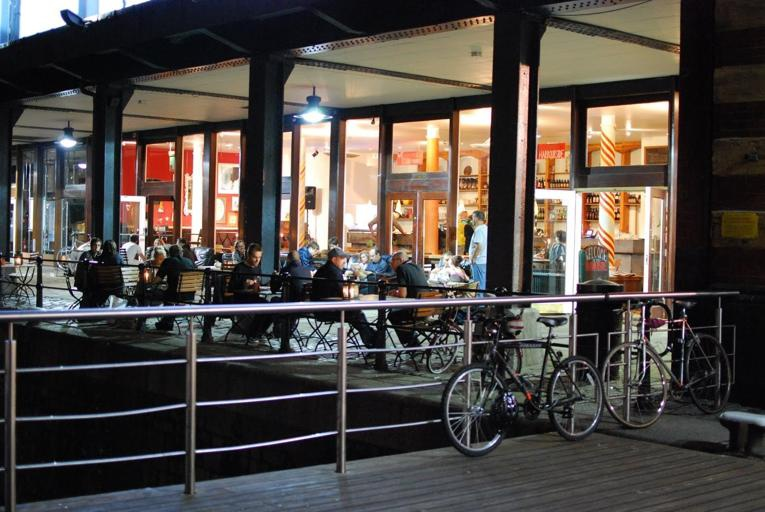non-vehicle: (440, 308, 606, 458), (601, 298, 733, 432), (425, 301, 523, 376), (55, 230, 91, 272)
